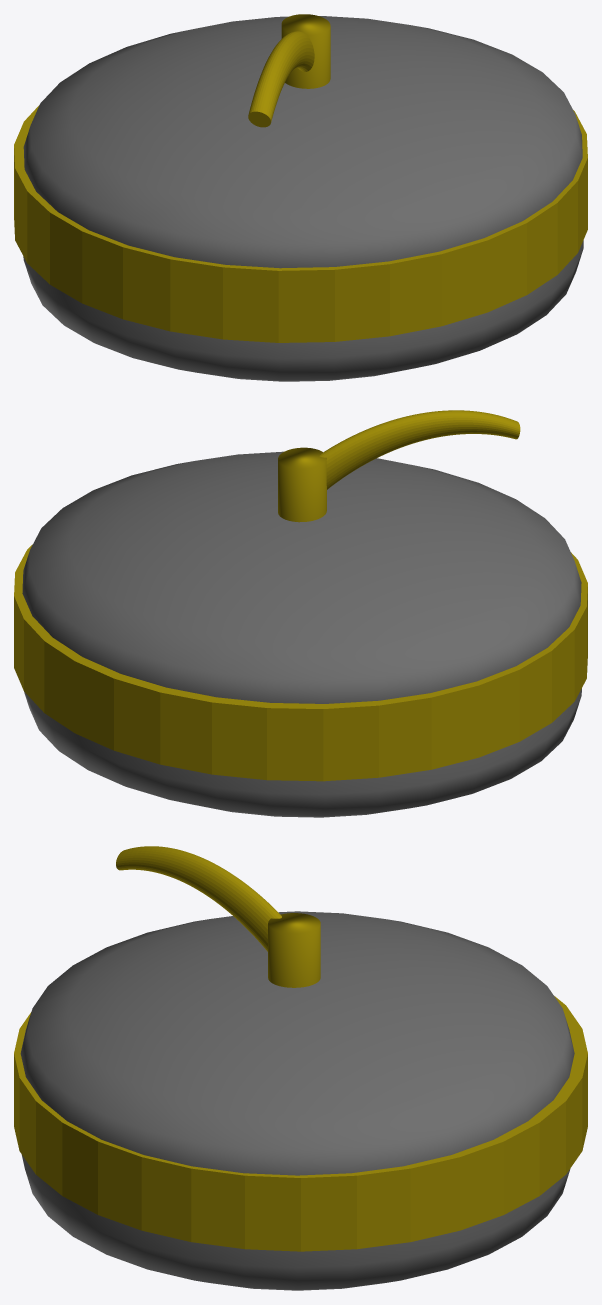
The model's file is yellow_rock.glb.
3 renders of one model, top to bottom at view 1: azimuth 30°, elevation 25°; view 2: azimuth 150°, elevation 25°; view 3: azimuth 270°, elevation 25°, orthographic.
Parts seen in each view (by area): view 1: Sphere, Cylinder.002, Cylinder, Cylinder.001; view 2: Sphere, Cylinder.002, Cylinder, Cylinder.001; view 3: Sphere, Cylinder.002, Cylinder, Cylinder.001.
Part boxes in pixels (x1,y1,x2,y2): Sphere: (23, 16, 583, 381); Cylinder.002: (14, 105, 587, 342); Cylinder: (248, 31, 314, 127); Cylinder.001: (281, 14, 330, 88); Sphere: (22, 451, 581, 817); Cylinder.002: (14, 544, 587, 781); Cylinder: (319, 410, 520, 489); Cylinder.001: (278, 447, 326, 522); Sphere: (20, 911, 574, 1290); Cylinder.002: (14, 996, 587, 1251); Cylinder: (116, 846, 281, 951); Cylinder.001: (268, 913, 320, 987).
Bounding box in the file's own units: 2.39 × 1.39 × 2.32.
